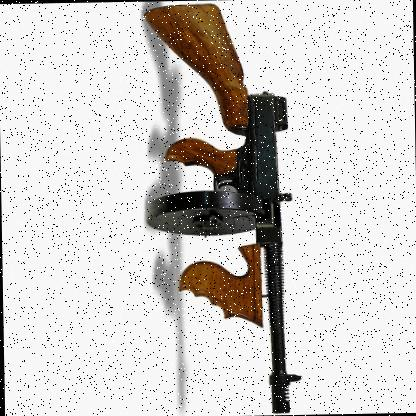rifle: (120, 3, 320, 410)
